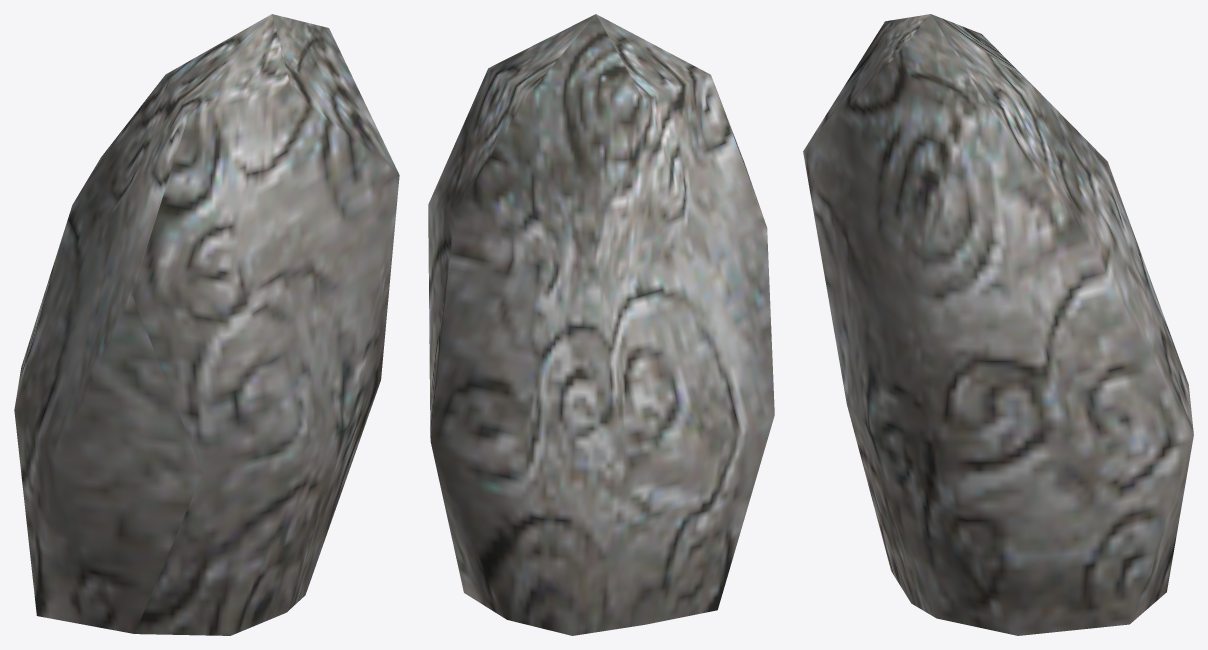
The model's file is standingstone_c.dae.
The picture shows the model from 3 angles, left to right: view 1: azimuth 30°, elevation 25°; view 2: azimuth 150°, elevation 25°; view 3: azimuth 270°, elevation 25°; orthographic projection. The views are drawn at different scales.
Visible parts, largest first — view 1: Object034; view 2: Object034; view 3: Object034.
Part boxes in pixels (x1,y1,x2,y2): Object034: [14, 14, 399, 635]; Object034: [428, 14, 774, 635]; Object034: [803, 14, 1193, 635].
Size of the model in its own units: 2.01 by 3.22 by 1.94.
